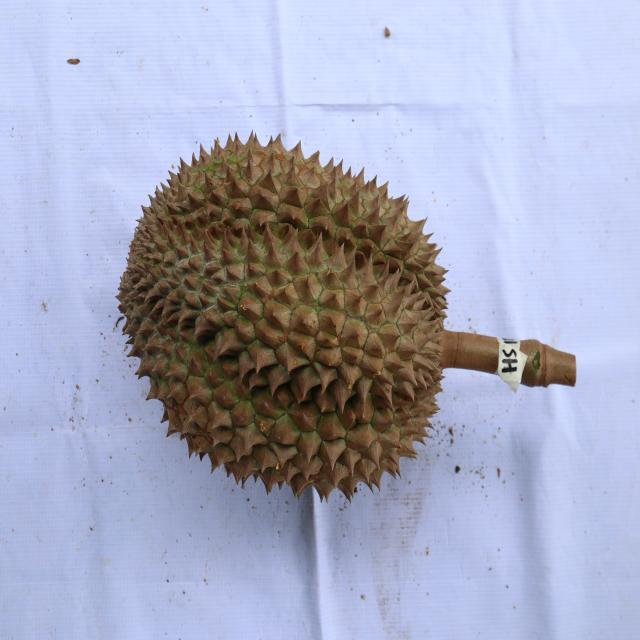mature: (116, 128, 450, 502)
